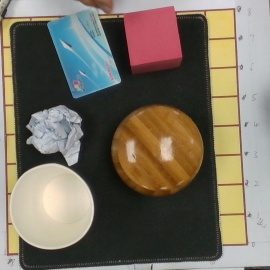card: (47, 8, 122, 98)
chess: (112, 104, 205, 200)
cup: (9, 163, 102, 250)
